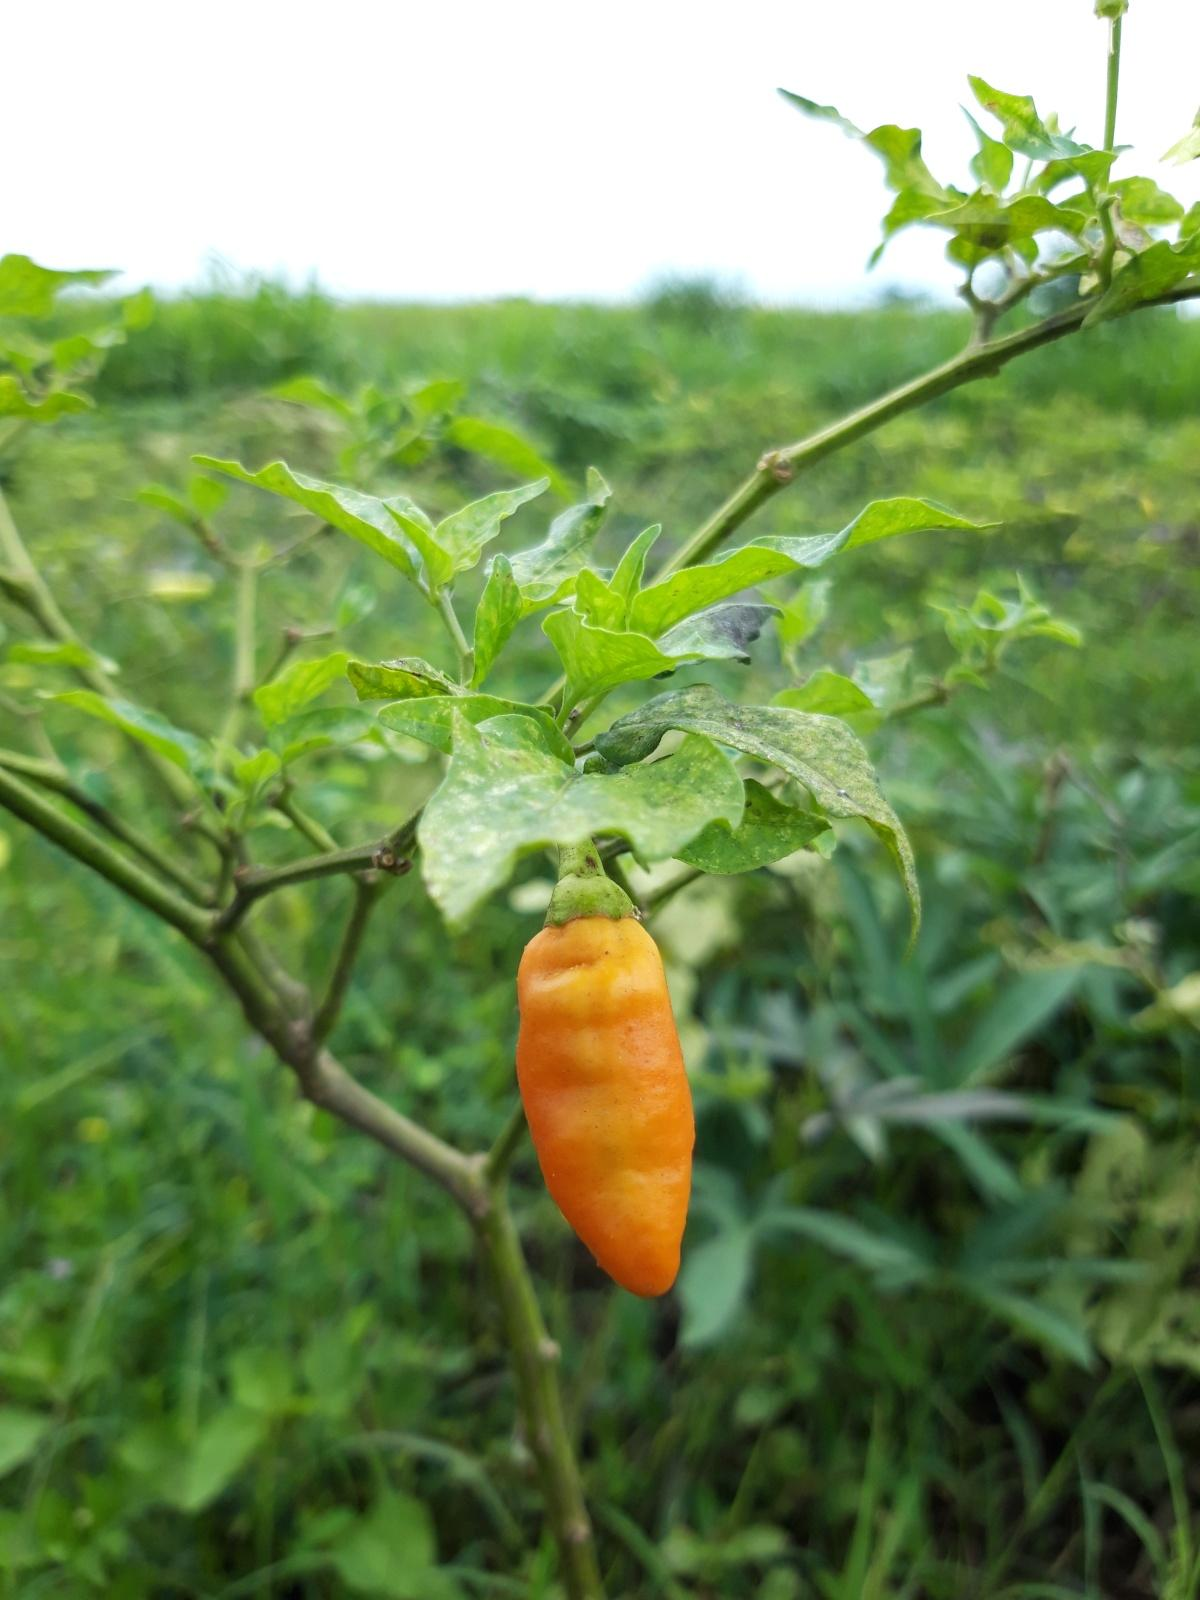cabai_normal: (513, 887, 693, 1298)
